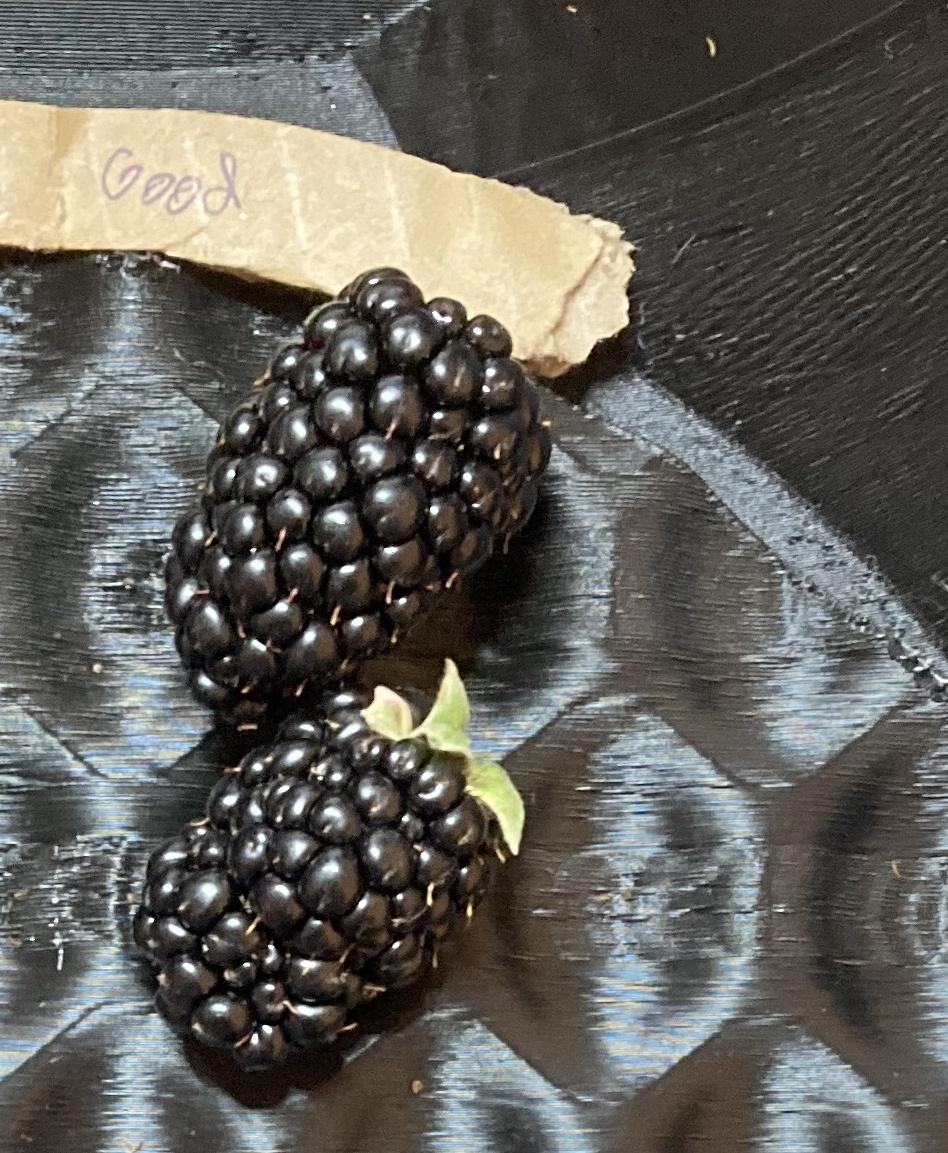berry: (168, 269, 549, 718), (136, 662, 523, 1067)
